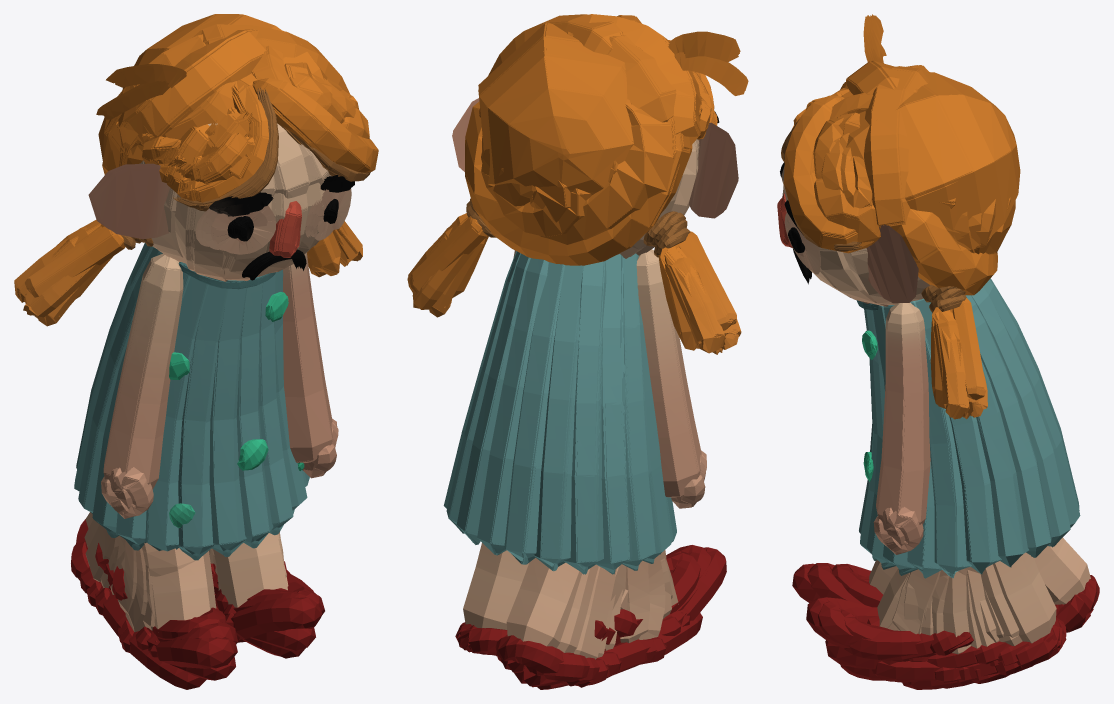
The model's file is girlwalk.fbx.
3 renders of one model, left to right at view 1: azimuth 30°, elevation 25°; view 2: azimuth 150°, elevation 25°; view 3: azimuth 270°, elevation 25°, orthographic. The views are drawn at different scales.
Visible parts, largest first — view 1: Kid; view 2: Kid; view 3: Kid.
Boxes of the visible parts, <box> form: Kid: <box>14,14,378,689</box>; Kid: <box>407,14,748,689</box>; Kid: <box>777,14,1099,689</box>.
Bounding box in the file's own units: 0.9221 × 1.66 × 0.8189.
